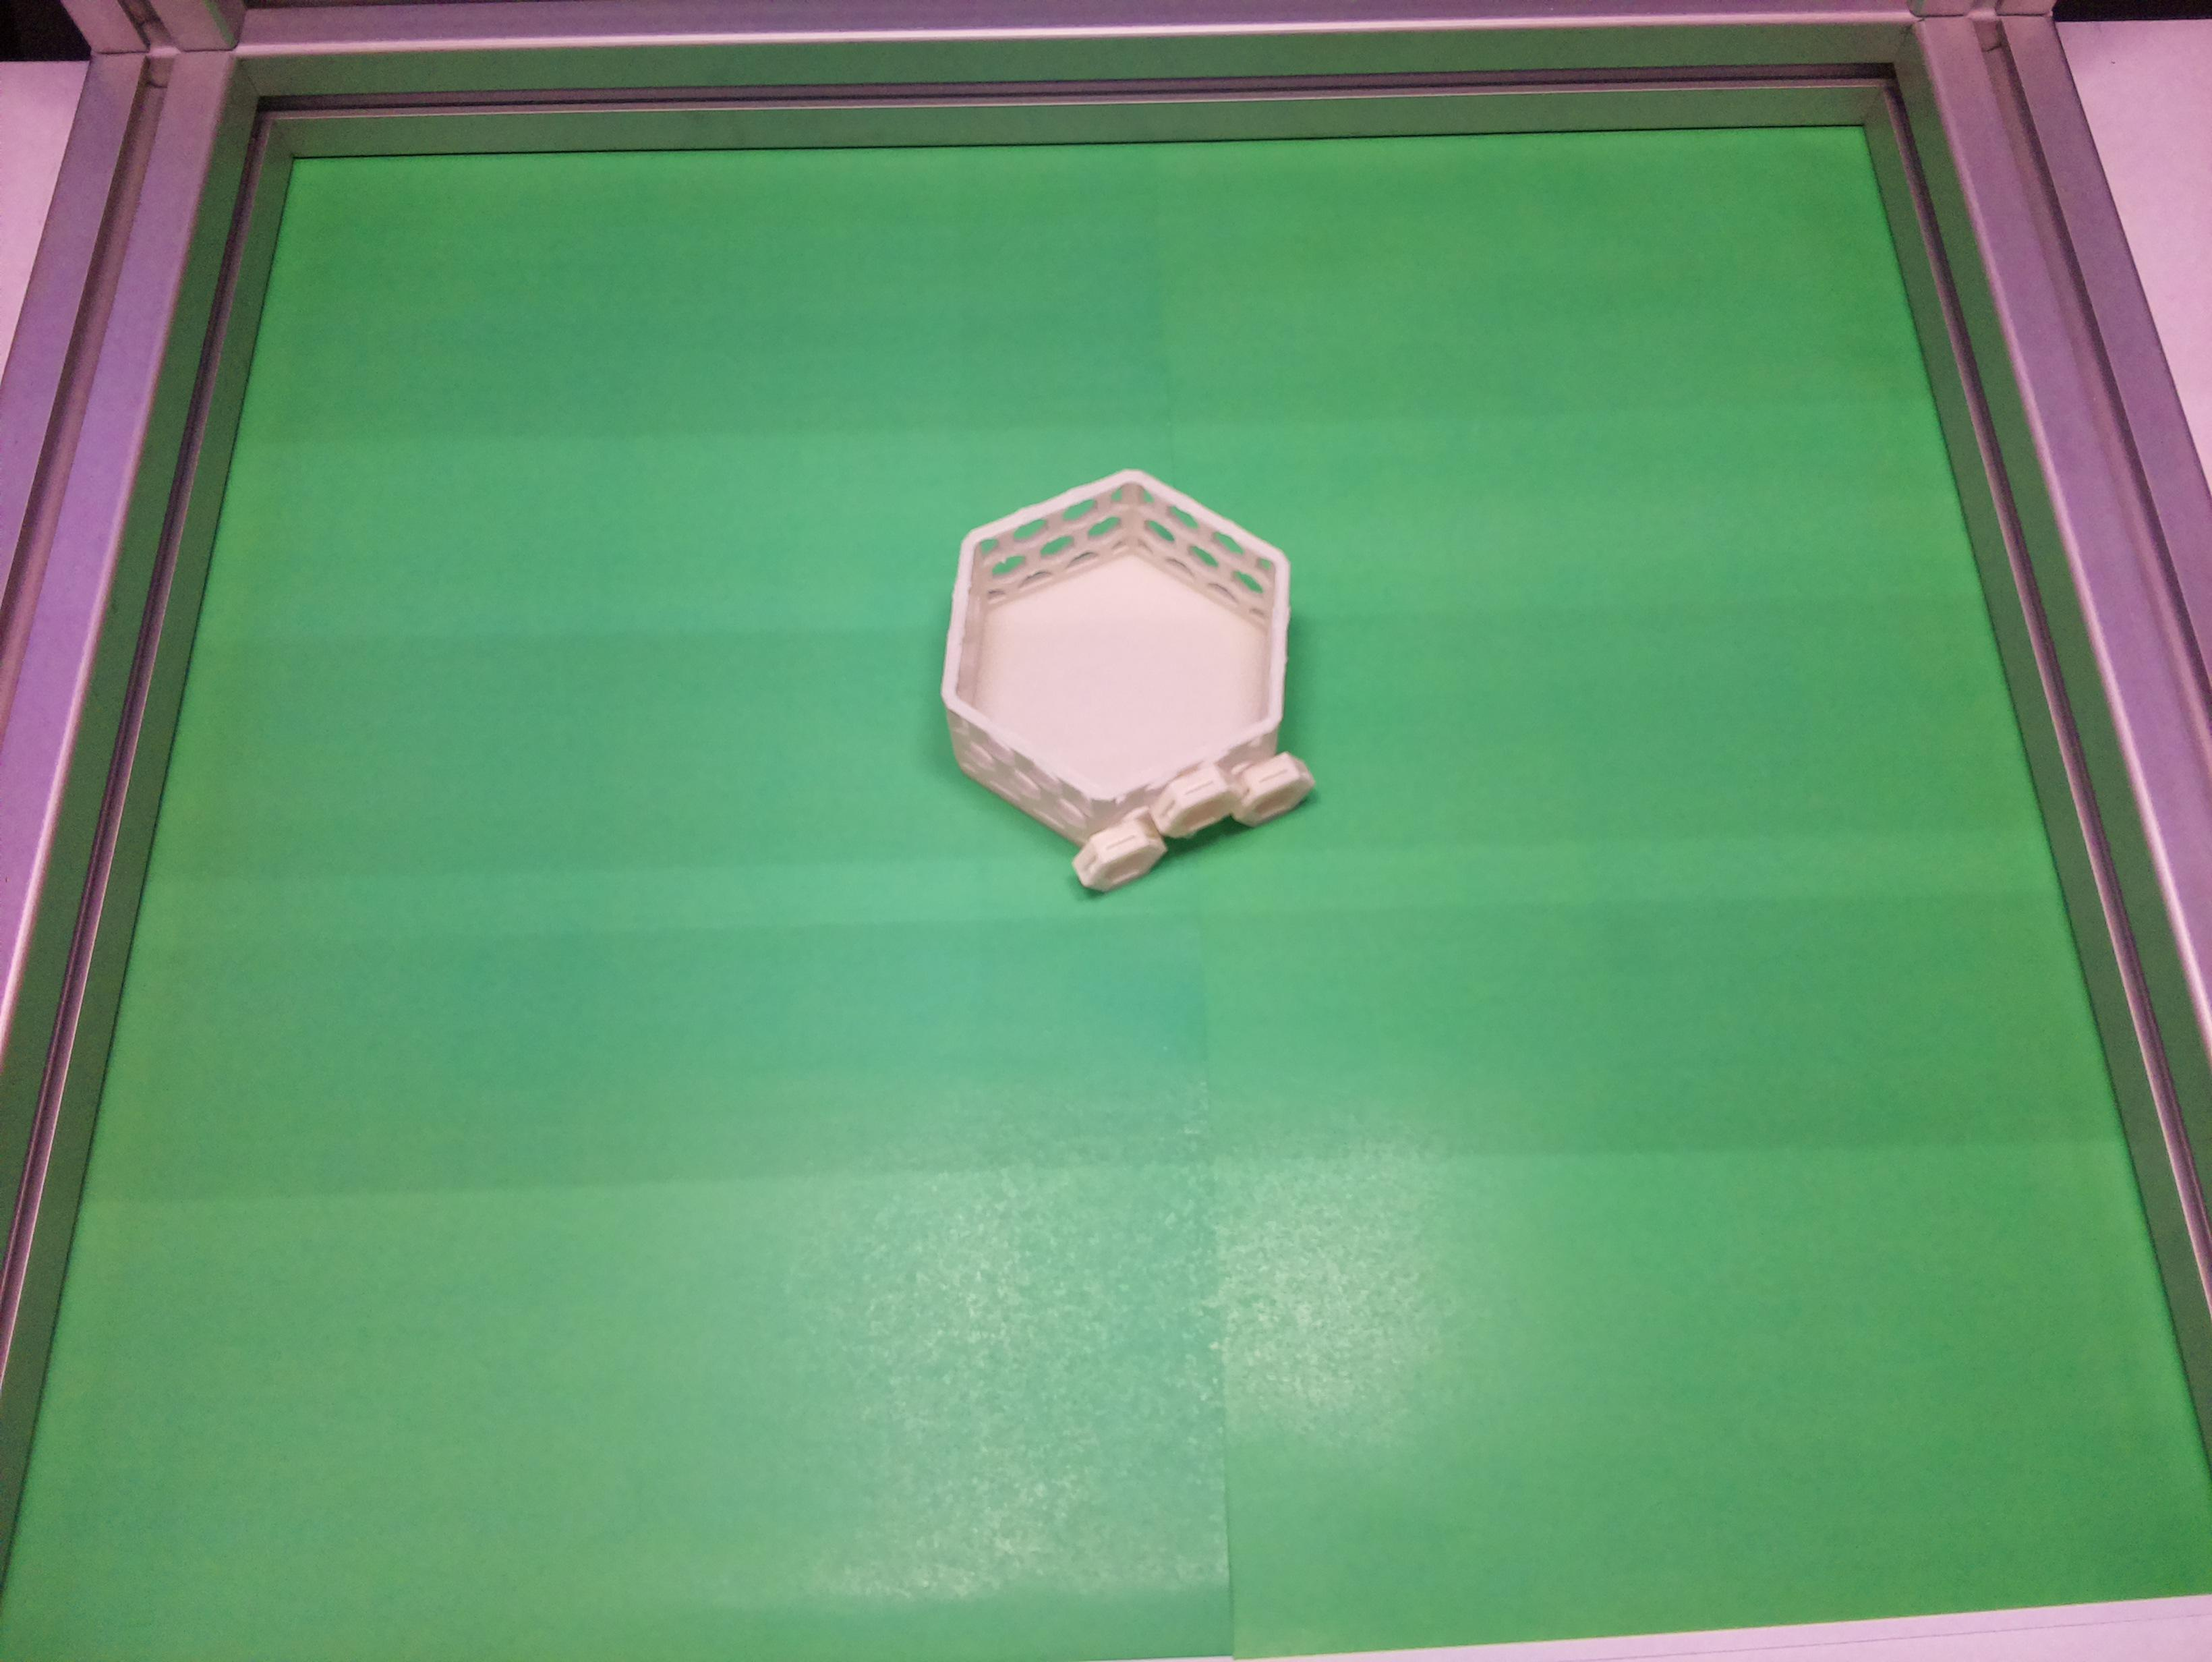bottle_holder: (876, 421, 1379, 924)
